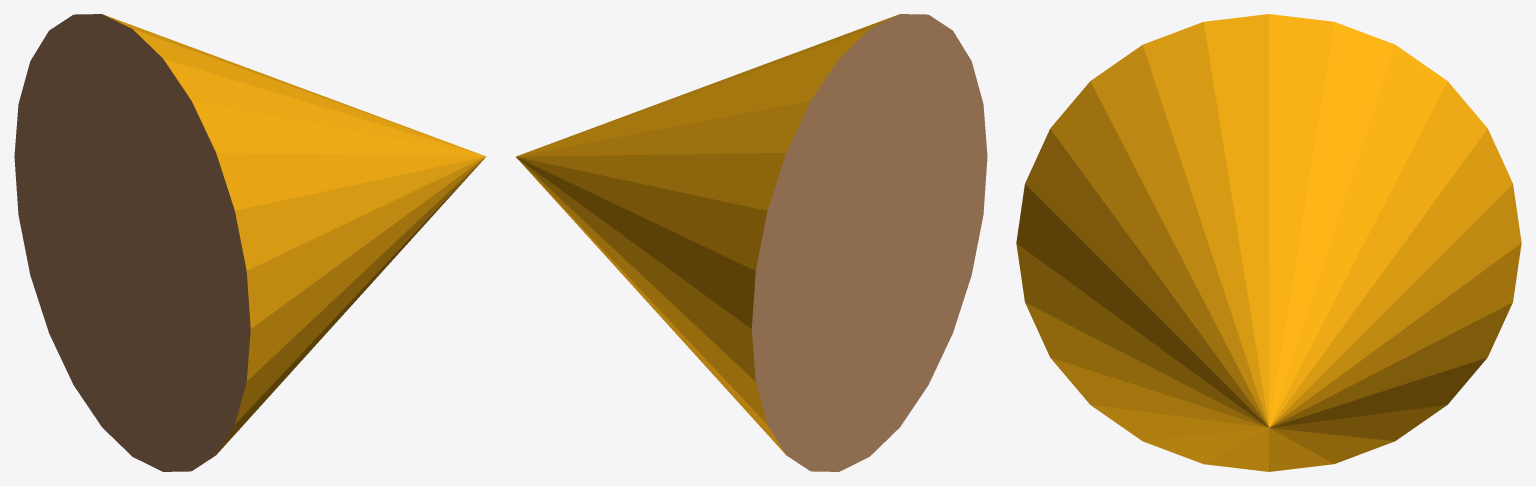
3 renders of one model, left to right at view 1: azimuth 30°, elevation 25°; view 2: azimuth 150°, elevation 25°; view 3: azimuth 270°, elevation 25°, orthographic. The views are drawn at different scales.
Parts seen in each view (by area): view 1: Group1; view 2: Group1; view 3: Group1.
Boxes of the visible parts, x1=… form: Group1: x1=14, y1=14, x2=486, y2=471; Group1: x1=516, y1=14, x2=987, y2=471; Group1: x1=1016, y1=14, x2=1521, y2=471.
Size of the model in its own units: 111 by 128 by 128.
